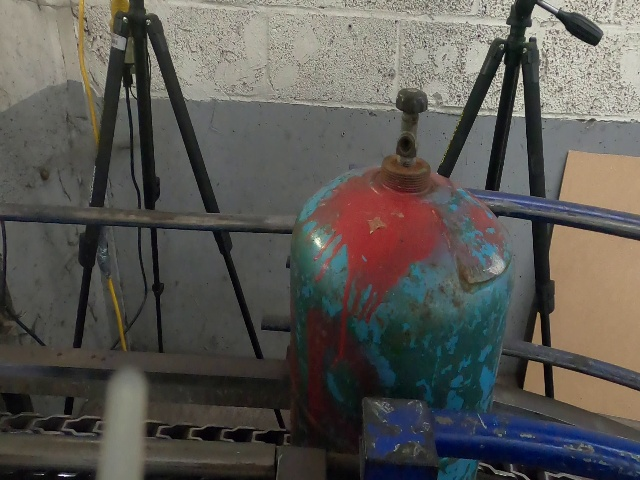gas_bottle: (0, 6, 635, 472)
